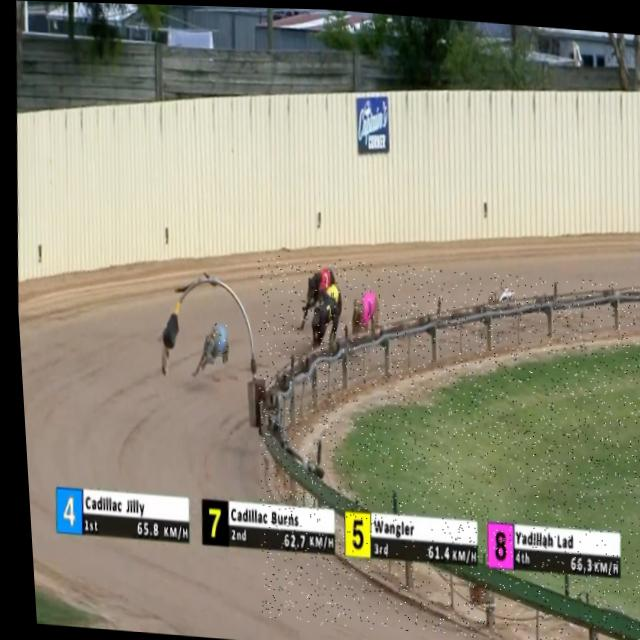dog_eight: (354, 288, 375, 321)
dog_five: (322, 284, 338, 307)
dog_four: (208, 322, 225, 356)
dog_one: (314, 265, 332, 290)
dog_seven: (317, 297, 333, 326)
dog_two: (495, 282, 512, 301)
rail: (255, 283, 640, 640)
